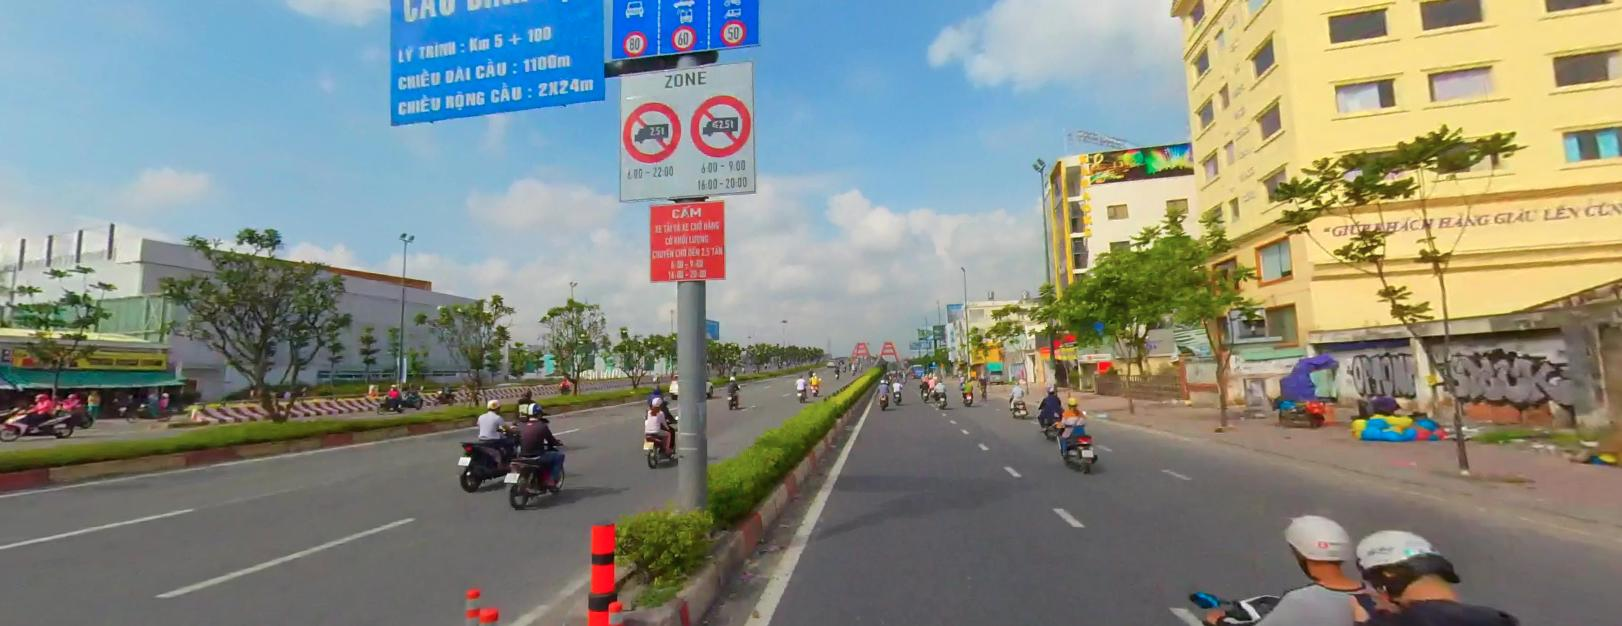Cam con lai: (690, 92, 752, 157), (690, 94, 752, 156), (691, 94, 751, 156), (689, 94, 749, 155), (622, 100, 682, 160), (622, 100, 680, 162), (623, 102, 681, 162), (623, 102, 680, 161)
Gioi han toc do: (719, 19, 747, 44), (720, 19, 746, 46), (720, 19, 747, 44), (623, 30, 648, 56), (671, 25, 696, 51), (622, 30, 647, 56), (671, 24, 696, 50), (720, 20, 745, 44), (671, 25, 695, 51), (622, 31, 645, 56), (671, 26, 695, 50), (623, 31, 645, 55)
